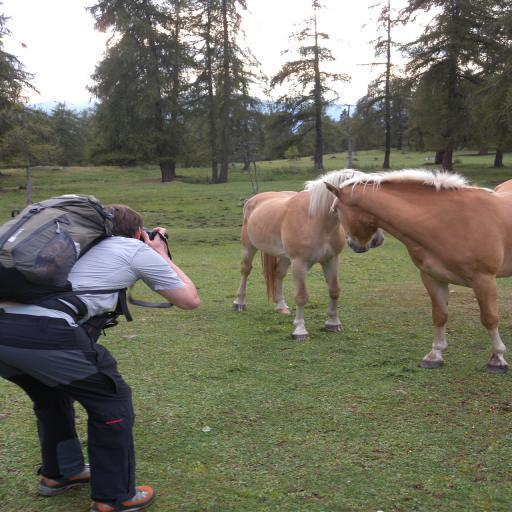horse: (324, 166, 512, 378), (226, 166, 388, 340)
